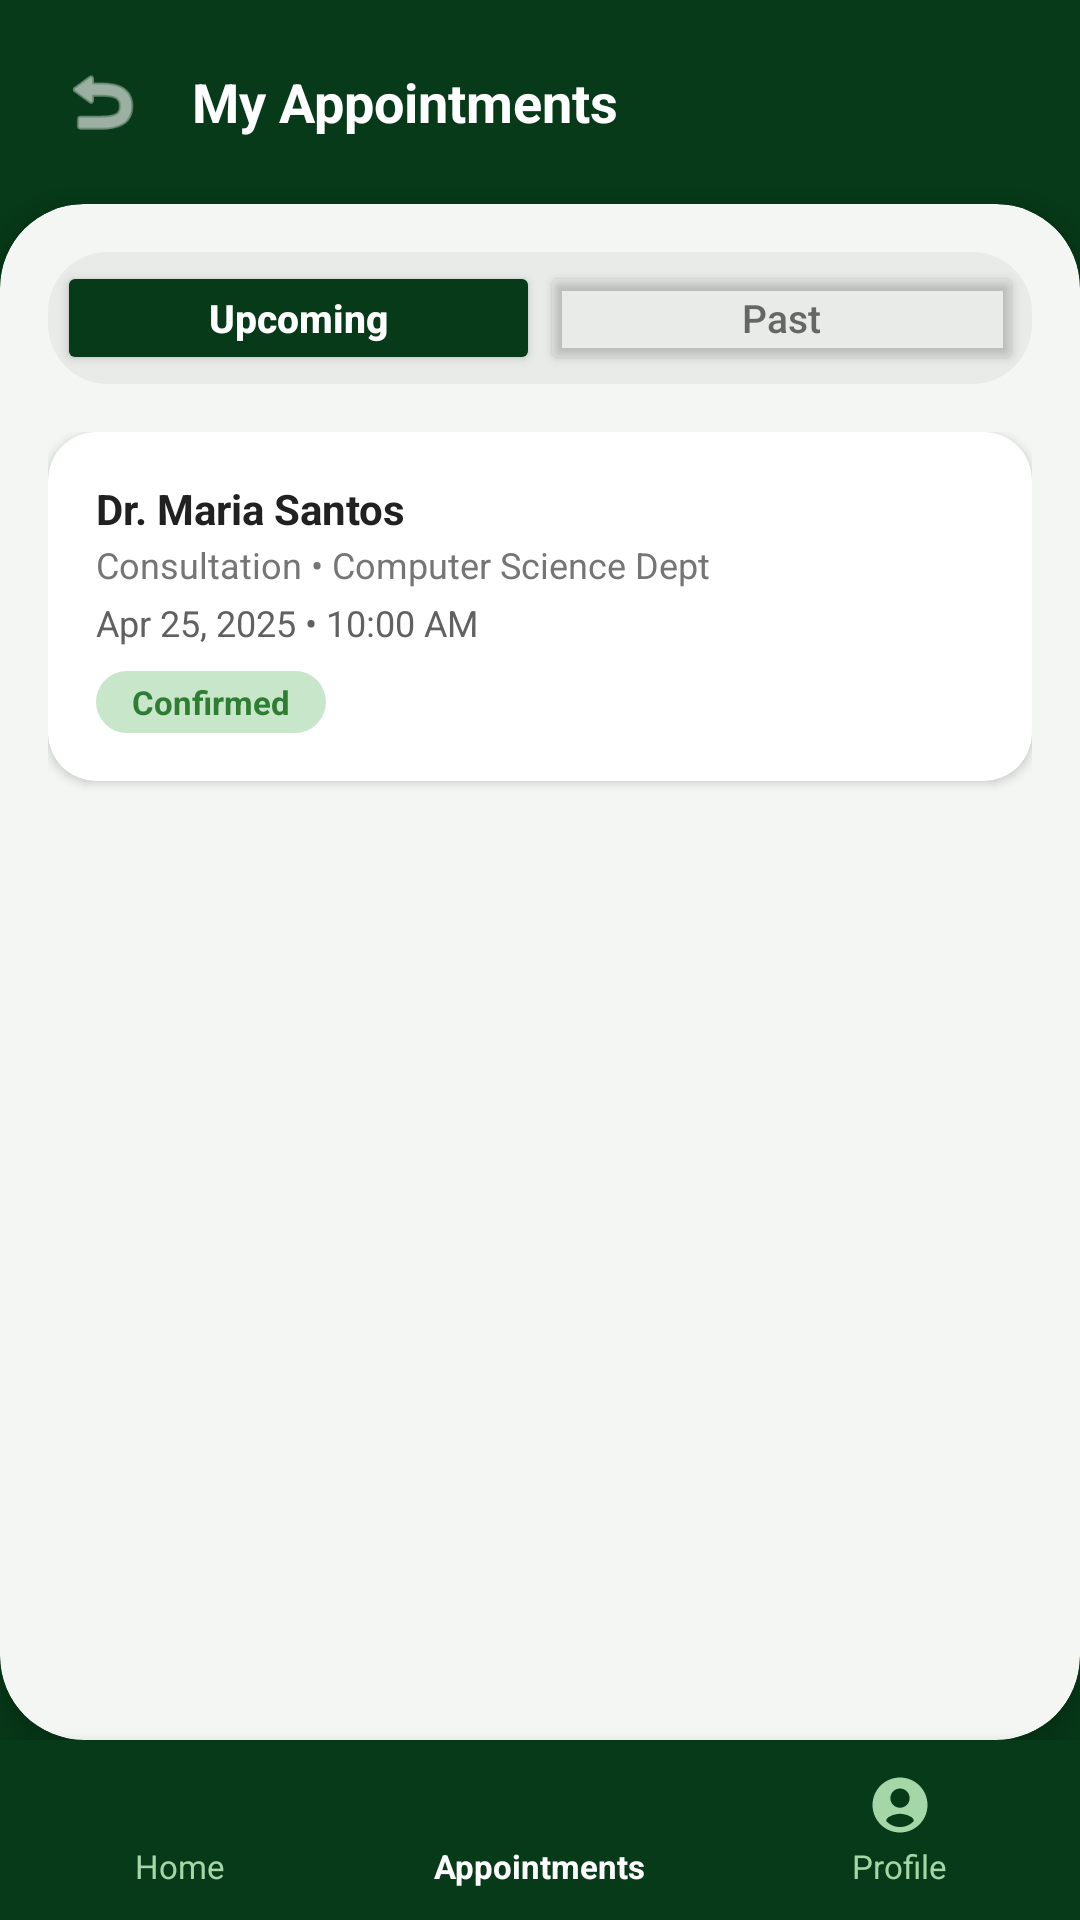

Where to tap for icons on this 1080 x 1920 app screen, as (x,y):
Back: (103,102)
